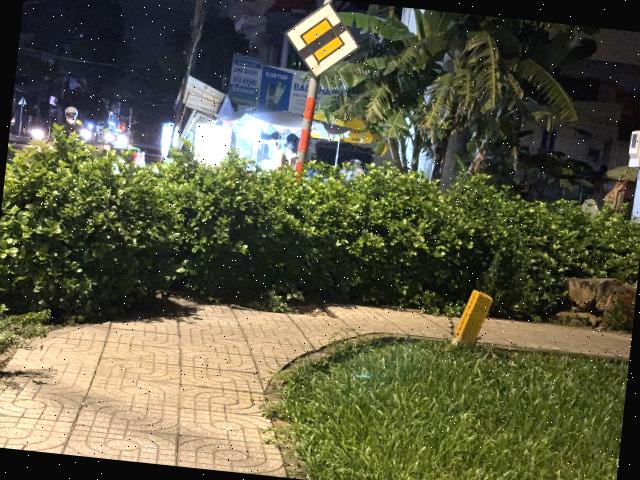het-duong-uu-tien: (279, 0, 366, 84)
